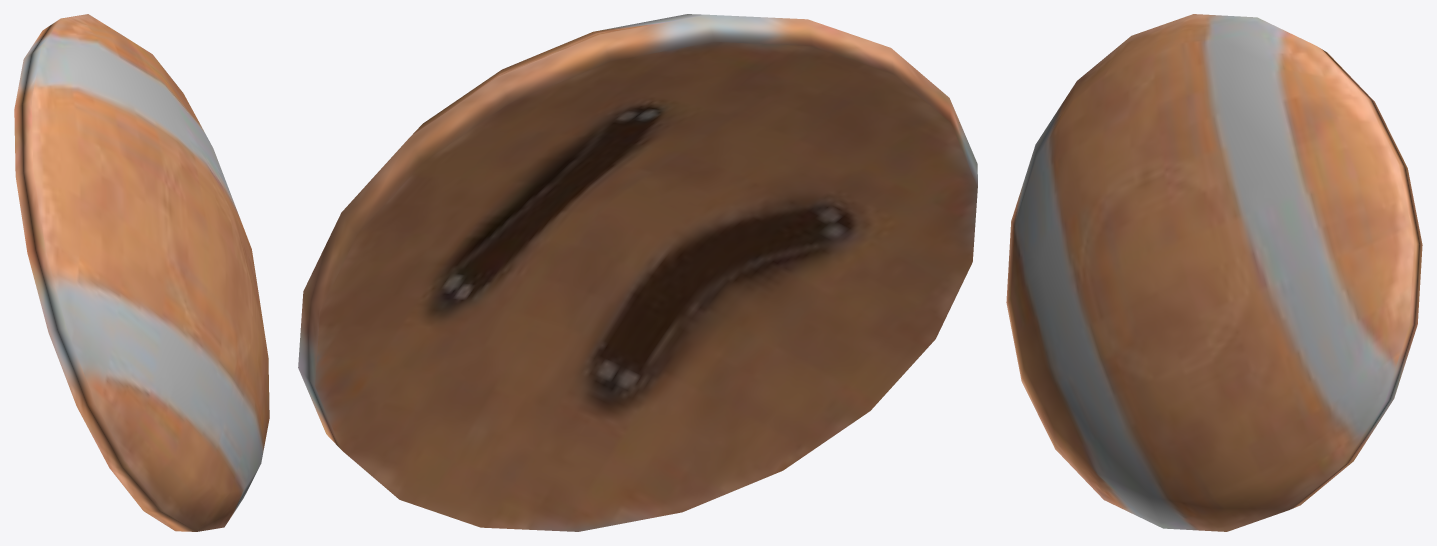
File: rider-shield-slice-coppershields.glb
The picture shows the model from 3 angles, left to right: view 1: azimuth 30°, elevation 25°; view 2: azimuth 150°, elevation 25°; view 3: azimuth 270°, elevation 25°; orthographic projection. The views are drawn at different scales.
Bounding box in the file's own units: 0.3096 × 0.393 × 0.3367.
Materials: 1 (1 with a texture image).
